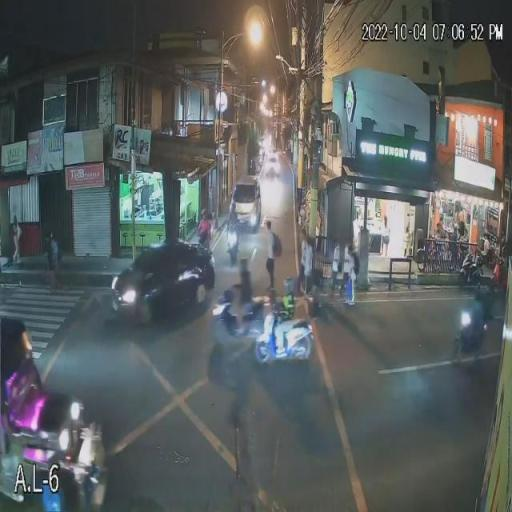helmet: (280, 275, 295, 295), (199, 205, 211, 221), (226, 202, 234, 216), (239, 260, 251, 269)
motorcycle: (254, 311, 318, 365), (207, 291, 272, 341), (456, 316, 488, 362), (225, 225, 242, 258)
rider: (230, 254, 258, 318), (276, 274, 300, 332), (470, 282, 488, 317), (226, 198, 238, 230), (200, 208, 208, 239)
